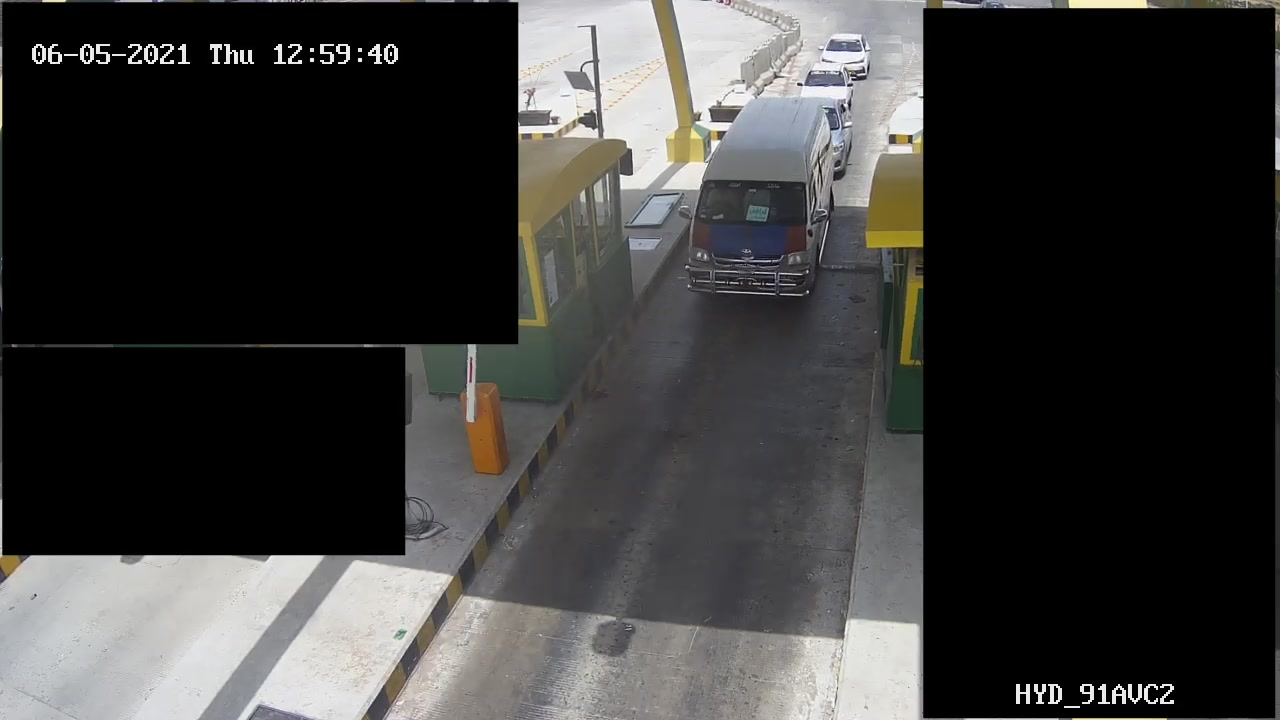F2: (682, 92, 837, 304)
